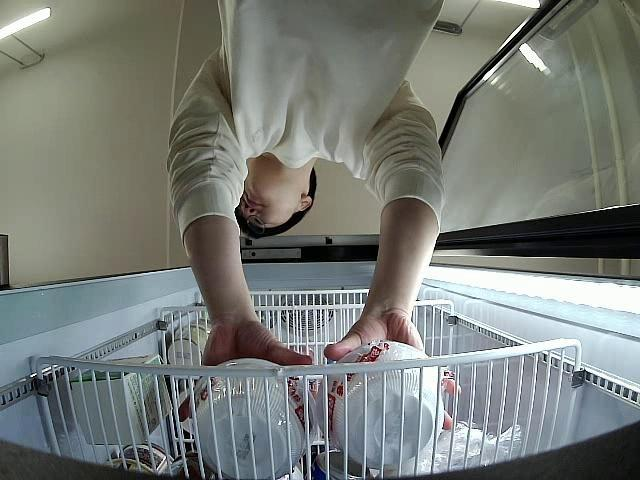09_yukGaeJang: (314, 340, 444, 471), (191, 358, 316, 479)
